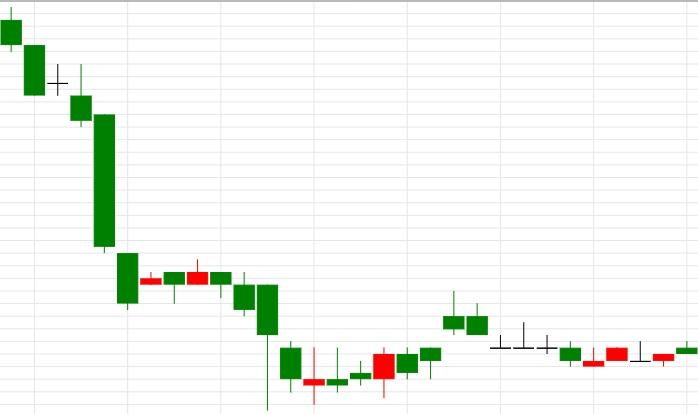shooting_star_fall: (303, 291, 466, 404)
